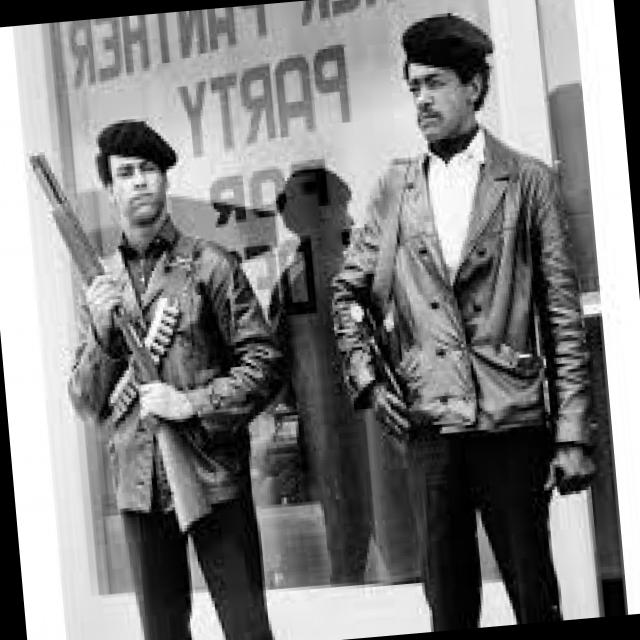Jacket: (306, 105, 626, 520), (36, 212, 310, 558)
